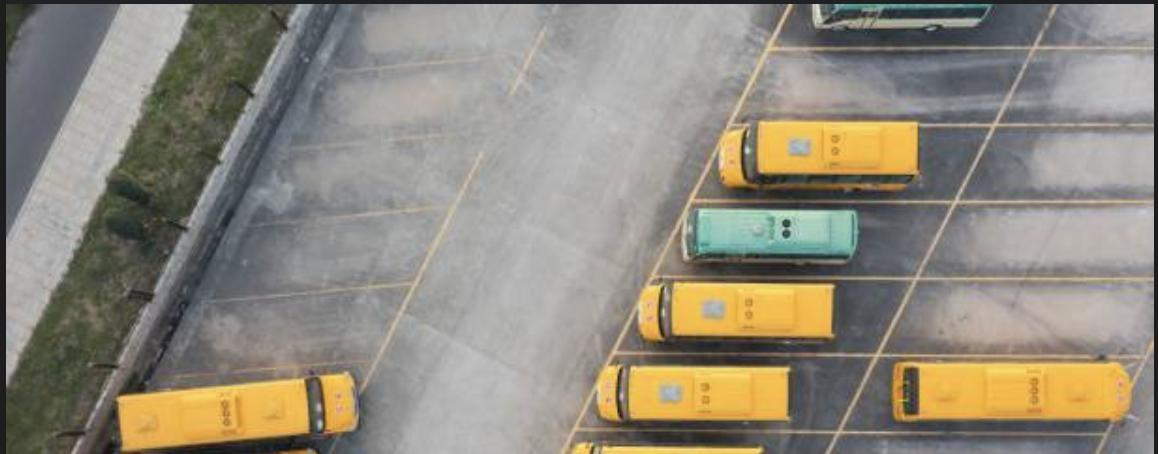Bus: (114, 368, 370, 447), (888, 355, 1140, 429), (718, 118, 928, 197), (638, 274, 847, 350), (596, 358, 806, 426)
